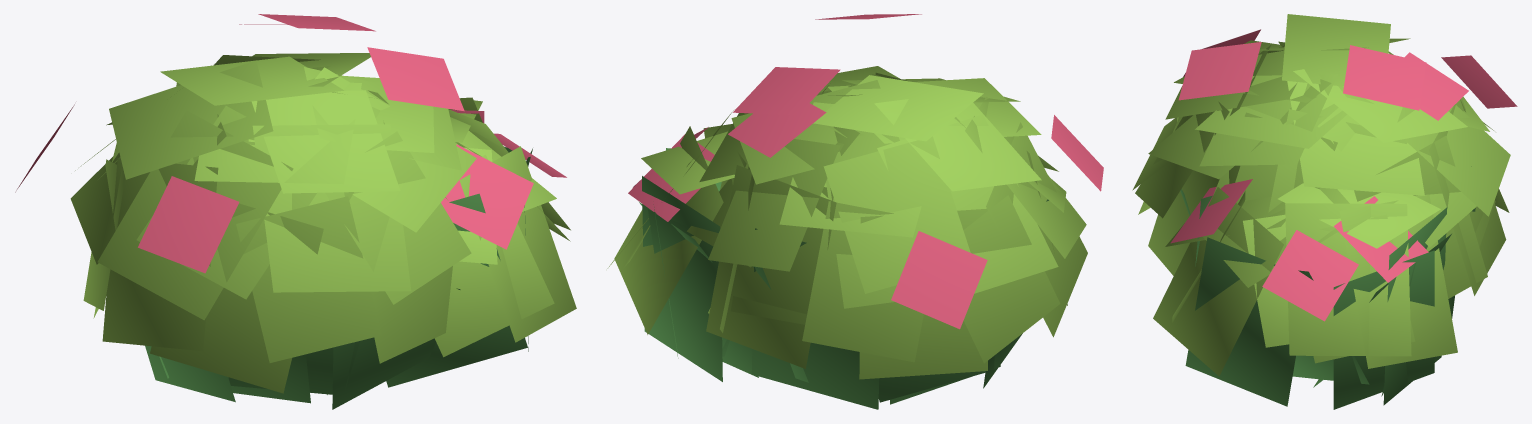
Rendered from plant_bush_0_lod1.glb.
The picture shows the model from 3 angles, left to right: view 1: azimuth 30°, elevation 25°; view 2: azimuth 150°, elevation 25°; view 3: azimuth 270°, elevation 25°; orthographic projection. The views are drawn at different scales.
Visible parts, largest first — view 1: plant_bush_0; view 2: plant_bush_0; view 3: plant_bush_0.
Boxes of the visible parts, x1=… form: plant_bush_0: x1=15, y1=14, x2=576, y2=409; plant_bush_0: x1=607, y1=14, x2=1103, y2=409; plant_bush_0: x1=1132, y1=14, x2=1517, y2=409.
Bounding box in the file's own units: 1.92 × 1.33 × 1.58.
